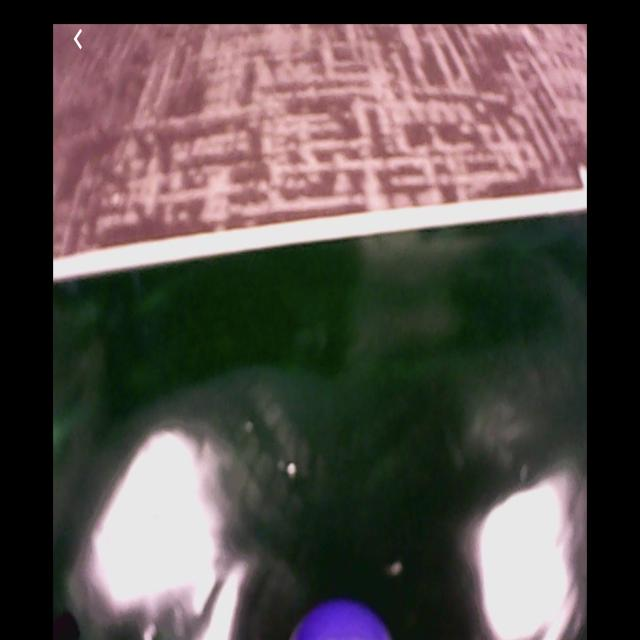ball: (291, 597, 396, 640)
